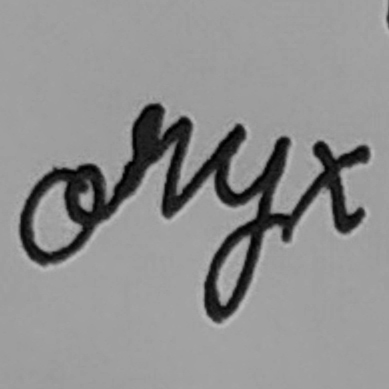o: (18, 159, 113, 267)
r: (118, 97, 200, 225)
x: (302, 130, 376, 241)
y: (197, 118, 295, 332)
